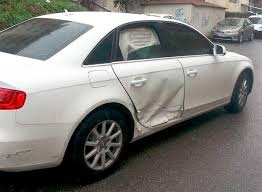Dent: (133, 80, 188, 136)
Scratch: (1, 147, 35, 163)
